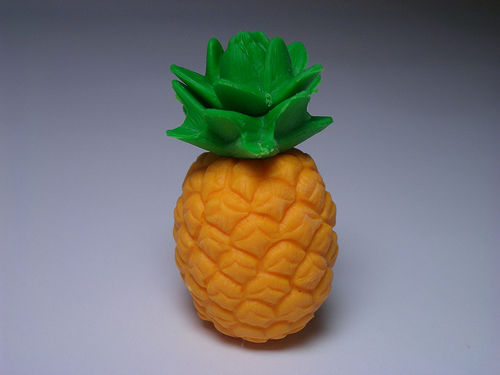pineapple: (162, 28, 339, 343)
